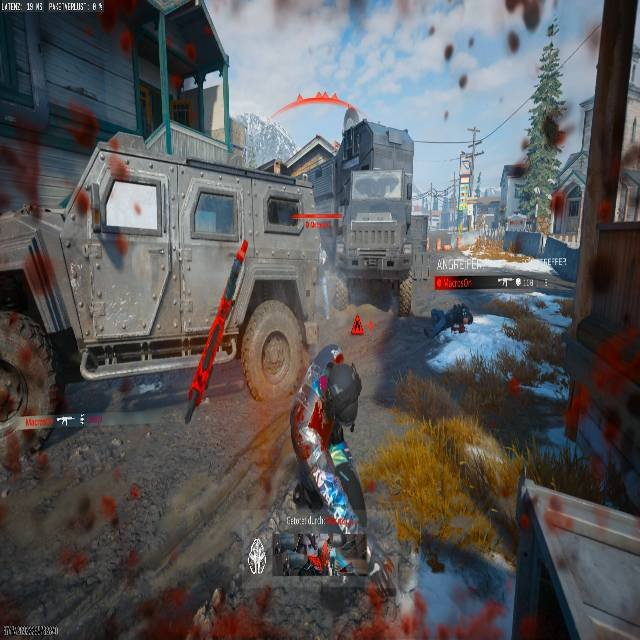head: (323, 343, 344, 365)
player: (282, 343, 363, 563)
